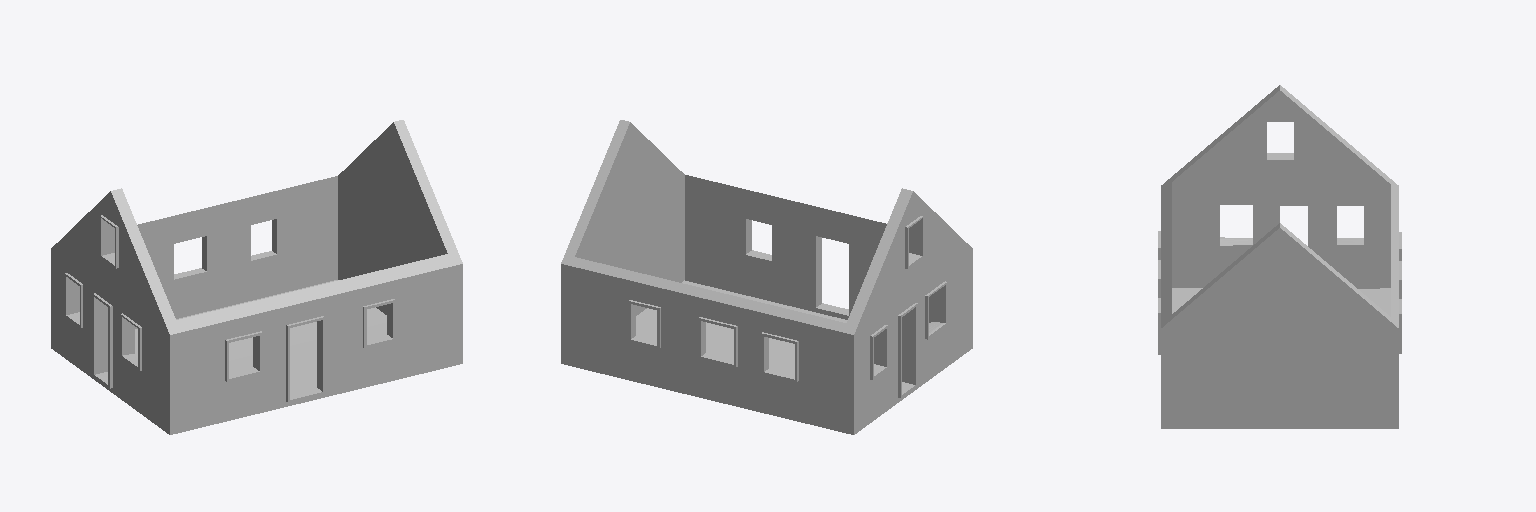
The model's file is HouseMain_lo.obj.
3 views of the same model, side by side, from view 1: azimuth 30°, elevation 25°; view 2: azimuth 150°, elevation 25°; view 3: azimuth 270°, elevation 25° (orthographic).
Parts seen in each view (by area): view 1: HouseMain_geo House_grp; view 2: HouseMain_geo House_grp; view 3: HouseMain_geo House_grp.
Boxes of the visible parts, box(x1,y1,x2,y2) form: HouseMain_geo House_grp: box(51, 120, 462, 434); HouseMain_geo House_grp: box(561, 120, 972, 434); HouseMain_geo House_grp: box(1158, 85, 1401, 428).
Size of the model in its own units: 1353 by 879 by 964.